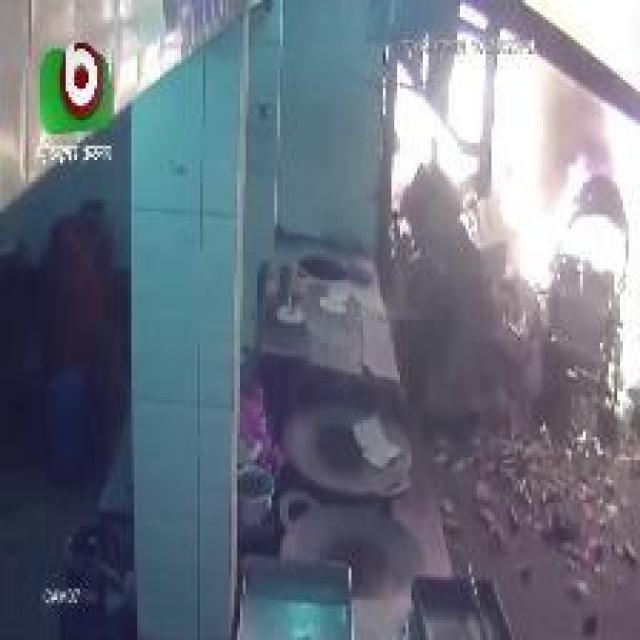smoke: (388, 3, 558, 283), (540, 2, 640, 418)
